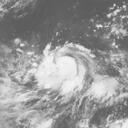cyclone: (34, 43, 92, 94)
